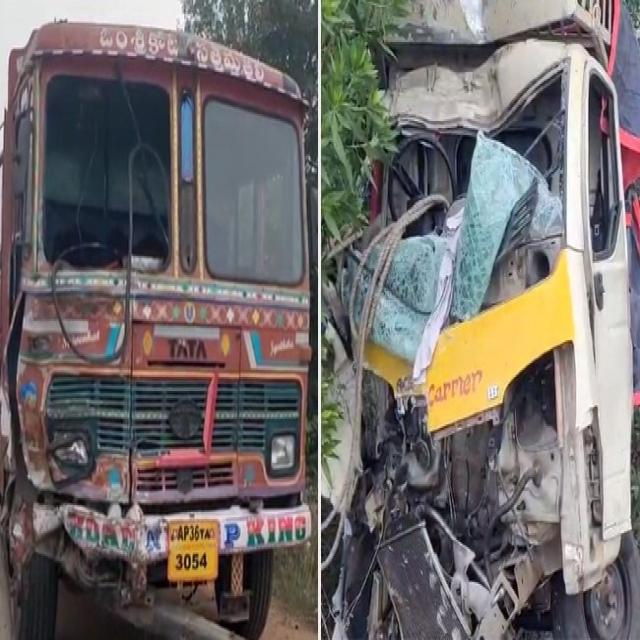accident: (321, 0, 640, 639), (0, 24, 311, 637)
